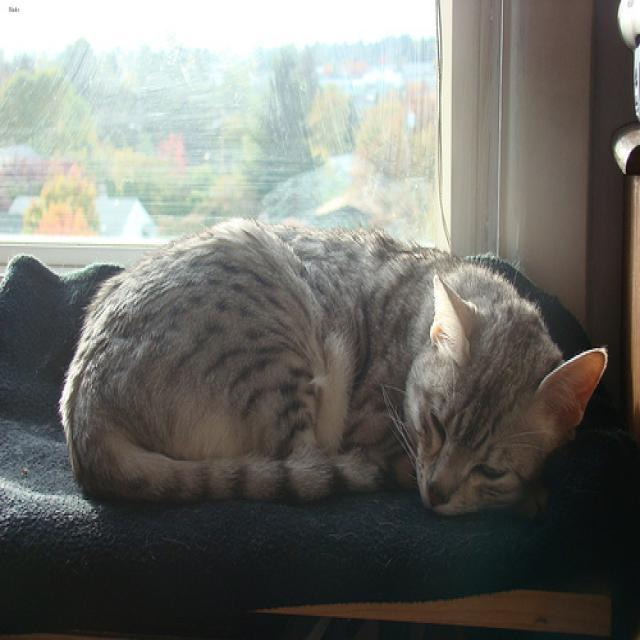Egyptian_Mau: (404, 273, 603, 514)
